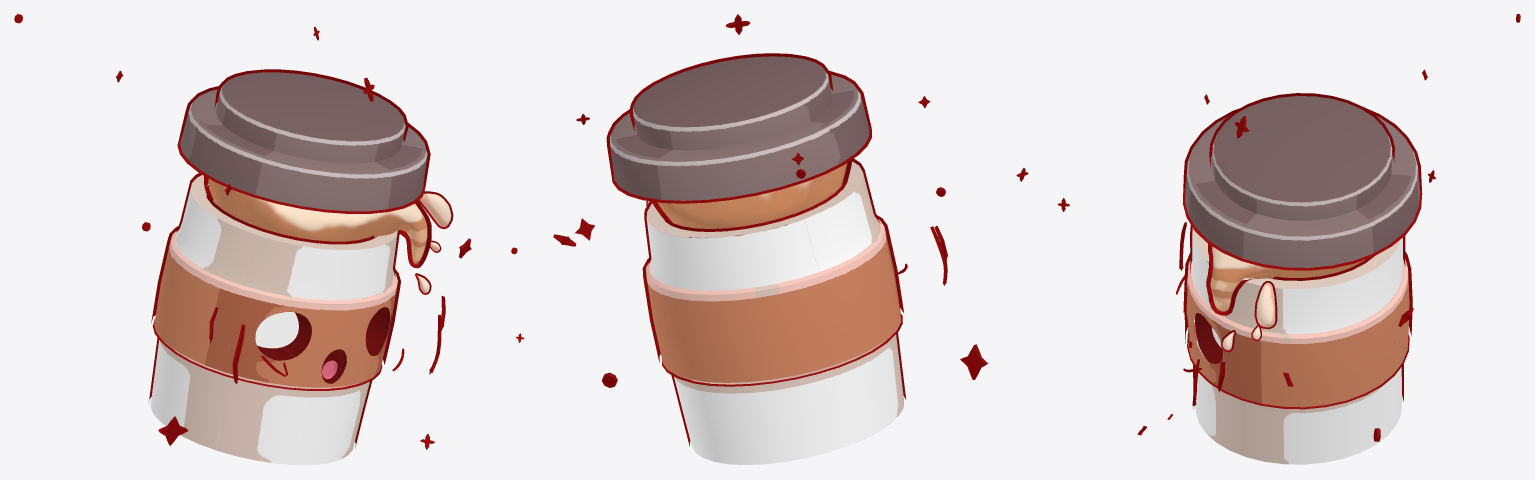
The model's file is catoon_coffe_draco.glb.
3 views of the same model, side by side, from view 1: azimuth 30°, elevation 25°; view 2: azimuth 150°, elevation 25°; view 3: azimuth 270°, elevation 25° (orthographic). The views are drawn at different scales.
Visible parts, largest first — view 1: Cilindro.001_2, Cilindro.003_3, Cilindro.006_6, Cilindro_0, Esfera_11, Cilindro.011_13, Cilindro.005_5, Cilindro.004_4, GP_Layer.002_17, Esfera.001_12; view 2: Cilindro.001_2, Cilindro.003_3, Cilindro.006_6, Cilindro_0, Esfera_11, Cilindro.004_4; view 3: Cilindro.001_2, Cilindro.003_3, Cilindro.006_6, Cilindro_0, Esfera_11, Cilindro.004_4, Esfera.001_12, Cilindro.011_13, GP_Layer.002_17.
Part boxes in pixels (<box>): Cilindro.001_2: <box>177,69,430,213</box>; Cilindro.003_3: <box>151,226,400,387</box>; Cilindro.006_6: <box>148,337,372,465</box>; Cilindro_0: <box>152,173,399,390</box>; Esfera_11: <box>204,176,431,268</box>; Cilindro.011_13: <box>257,307,391,360</box>; Cilindro.005_5: <box>255,312,298,348</box>; Cilindro.004_4: <box>170,230,397,303</box>; GP_Layer.002_17: <box>209,296,445,383</box>; Esfera.001_12: <box>418,191,453,229</box>; Cilindro.001_2: <box>606,53,871,203</box>; Cilindro.003_3: <box>642,215,903,382</box>; Cilindro.006_6: <box>671,332,906,464</box>; Cilindro_0: <box>644,158,902,386</box>; Esfera_11: <box>651,160,852,228</box>; Cilindro.004_4: <box>646,217,884,294</box>; Cilindro.001_2: <box>1182,93,1422,270</box>; Cilindro.003_3: <box>1183,252,1412,407</box>; Cilindro.006_6: <box>1193,334,1403,464</box>; Cilindro_0: <box>1187,225,1409,409</box>; Esfera_11: <box>1206,244,1364,315</box>; Cilindro.004_4: <box>1187,259,1407,338</box>; Esfera.001_12: <box>1254,281,1277,329</box>; Cilindro.011_13: <box>1195,313,1222,363</box>; GP_Layer.002_17: <box>1179,222,1225,406</box>.
Size of the model in its own units: 3.94 by 4 by 4.72.
Materials: 5 (4 with a texture image).
